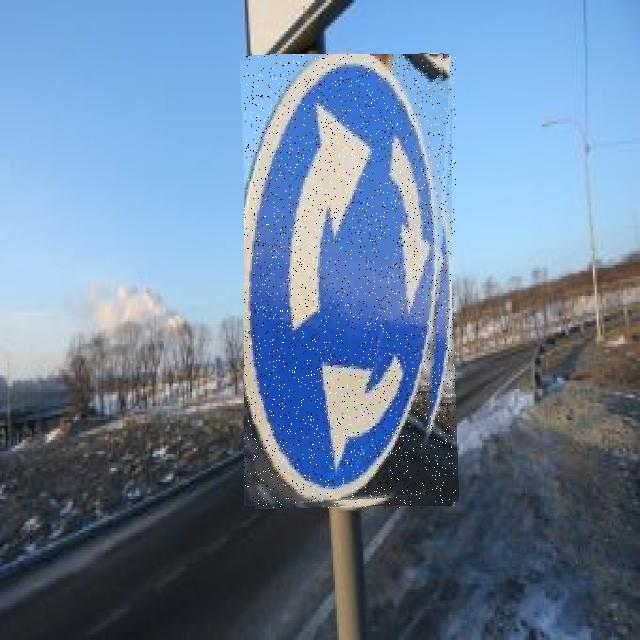roundabout: (244, 54, 456, 508)
